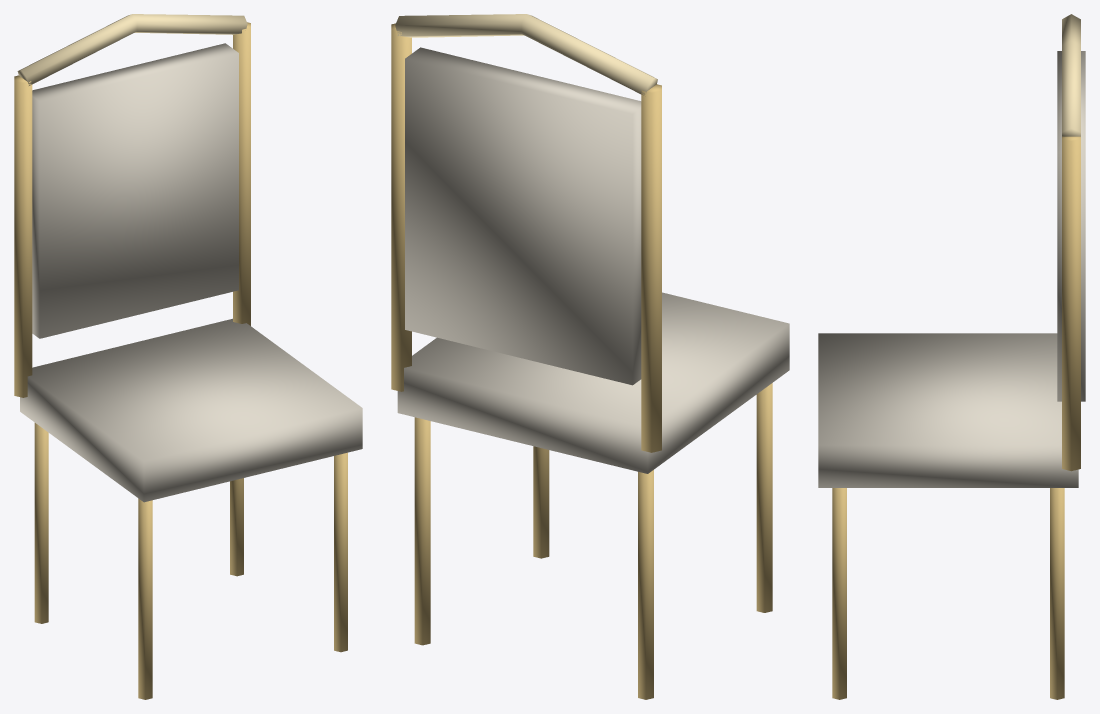
The model's file is guest-chair.glb.
3 views of the same model, side by side, from view 1: azimuth 30°, elevation 25°; view 2: azimuth 150°, elevation 25°; view 3: azimuth 270°, elevation 25° (orthographic). The views are drawn at different scales.
Parts seen in each view (by area): view 1: back-cushion-1, cushion-0, legs-2, back-frame-3, back-frame-4; view 2: back-cushion-1, cushion-0, legs-2, back-frame-3, back-frame-4; view 3: cushion-0, back-frame-3, legs-2, back-cushion-1, back-frame-4.
Part boxes in pixels (<box>): back-cushion-1: <box>32,43,238,338</box>; cushion-0: <box>20,318,362,502</box>; legs-2: <box>34,423,347,699</box>; back-frame-3: <box>14,22,250,397</box>; back-frame-4: <box>17,14,247,85</box>; back-cushion-1: <box>405,47,641,385</box>; cushion-0: <box>397,292,789,473</box>; legs-2: <box>414,383,772,699</box>; back-frame-3: <box>391,23,661,452</box>; back-frame-4: <box>395,14,657,95</box>; cushion-0: <box>818,333,1078,487</box>; back-frame-3: <box>1062,136,1080,471</box>; legs-2: <box>832,488,1064,699</box>; back-cushion-1: <box>1057,51,1085,401</box>; back-frame-4: <box>1062,14,1080,136</box>.
Bounding box in the file's own units: 0.606 × 1.41 × 0.565.
